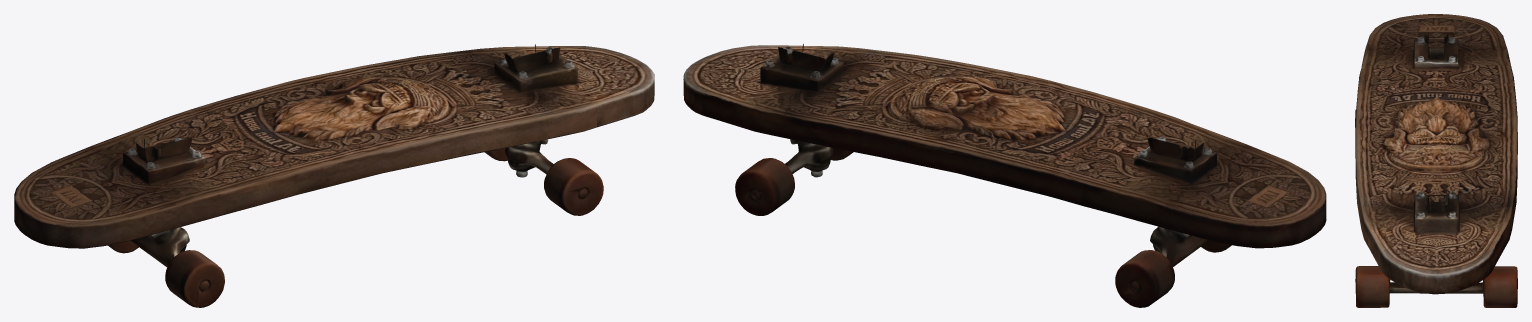
File: CCG_Deck_SunriseScholar_web.glb
3 views of the same model, side by side, from view 1: azimuth 30°, elevation 25°; view 2: azimuth 150°, elevation 25°; view 3: azimuth 270°, elevation 25° (orthographic). The views are drawn at different scales.
Visible parts, largest first — view 1: SM_Deck_SunriseScholar; view 2: SM_Deck_SunriseScholar; view 3: SM_Deck_SunriseScholar.
Boxes of the visible parts, left/top/right/bottom form: SM_Deck_SunriseScholar: left=14, top=44, right=654, bottom=307; SM_Deck_SunriseScholar: left=683, top=44, right=1326, bottom=307; SM_Deck_SunriseScholar: left=1355, top=14, right=1517, bottom=307.
Size of the model in its own units: 0.82 by 0.168 by 0.218.
Materials: 1 (1 with a texture image).
